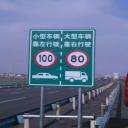speed_limit_100: (32, 48, 60, 70)
speed_limit_80: (66, 47, 90, 70)
